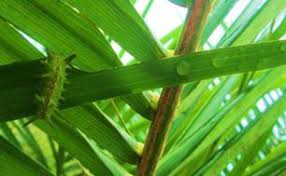Pest! (nettle_caterpillar): (33, 42, 70, 121)
